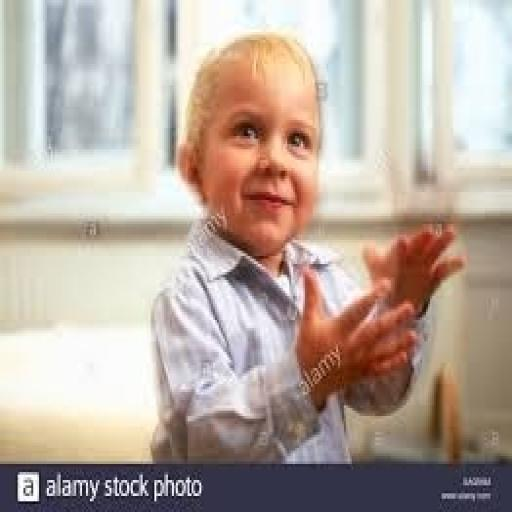clapping: (147, 27, 467, 464)
